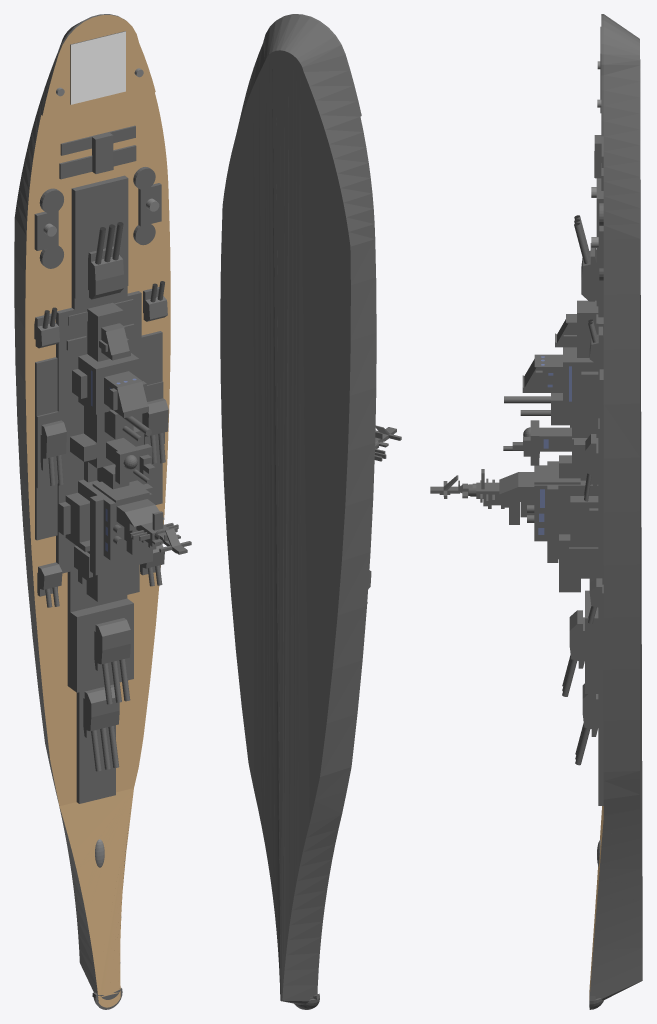
The model's file is BB-61+Battleship_fix.obj.
3 renders of one model, left to right at view 1: azimuth 30°, elevation 25°; view 2: azimuth 150°, elevation 25°; view 3: azimuth 270°, elevation 25°, orthographic.
Visible parts, largest first — view 1: Object.1, Object.3; view 2: Object.1; view 3: Object.1, Object.3.
Boxes of the visible parts, x1,y1,x2,y2 form: Object.1: [14, 14, 191, 1009]; Object.3: [83, 684, 119, 771]; Object.1: [220, 14, 401, 1009]; Object.1: [430, 14, 642, 1009]; Object.3: [575, 683, 598, 765].
Bounding box in the file's own units: 237 × 1542 × 301.
